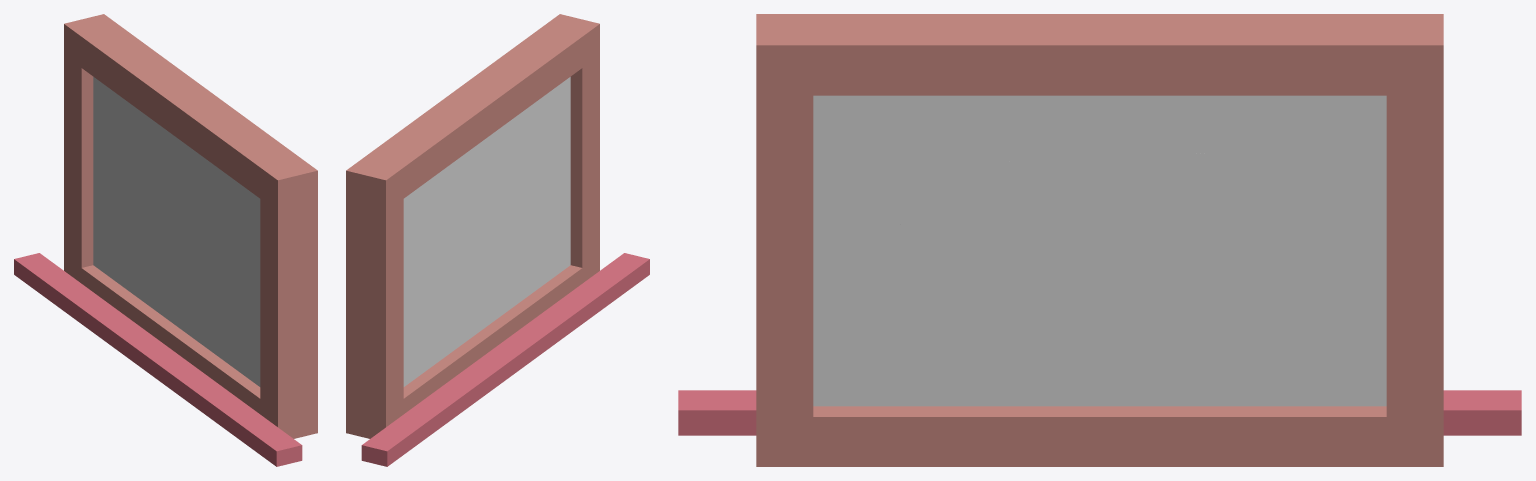
Rendered from Window.fbx.
3 renders of one model, left to right at view 1: azimuth 30°, elevation 25°; view 2: azimuth 150°, elevation 25°; view 3: azimuth 270°, elevation 25°, orthographic. The views are drawn at different scales.
Parts seen in each view (by area): view 1: WindowFrame, Window.006, Window.007, Window.011, Window.009, Window.010, Window.004, Window.003, Window.008, Window.012, Window.005, Window.001 (+1 smaller); view 2: WindowFrame, Window.006, Window.007, Window.011, Window.010, Window.012, Window.009, Window.001, Window.004, Window.003, Window.002, Window.008 (+1 smaller); view 3: WindowFrame, Window.006, Window.007, Window.011, Window.009, Window.010, Window.012, Window.001, Window.004, Window.003, Window.005, Window.008 (+1 smaller).
Boxes of the visible parts, x1,y1,x2,y2 form: WindowFrame: (14, 14, 317, 466); Window.006: (166, 169, 254, 301); Window.007: (118, 133, 184, 288); Window.011: (167, 289, 254, 363); Window.009: (93, 191, 135, 295); Window.010: (118, 191, 180, 328); Window.004: (122, 106, 184, 168); Window.003: (183, 142, 234, 225); Window.008: (93, 131, 121, 198); Window.012: (229, 302, 260, 386); Window.005: (93, 77, 132, 133); Window.001: (229, 176, 260, 250); WindowFrame: (346, 14, 649, 466); Window.006: (465, 149, 553, 312); Window.007: (417, 166, 483, 312); Window.011: (465, 196, 553, 331); Window.010: (417, 285, 478, 363); Window.012: (528, 195, 570, 295); Window.009: (403, 285, 434, 386); Window.001: (528, 77, 570, 148); Window.004: (420, 142, 483, 222); Window.003: (482, 108, 533, 165); Window.002: (534, 133, 570, 199); Window.008: (403, 223, 420, 308); WindowFrame: (678, 14, 1521, 466); Window.006: (867, 144, 1150, 359); Window.007: (1092, 144, 1305, 359); Window.011: (867, 275, 1150, 406); Window.009: (1249, 258, 1386, 406); Window.010: (1107, 258, 1305, 406); Window.012: (813, 275, 950, 406); Window.001: (813, 95, 951, 193); Window.004: (1092, 95, 1295, 161); Window.003: (931, 95, 1099, 176); Window.005: (1254, 95, 1386, 191); Window.008: (1296, 161, 1386, 299).
Size of the model in its own units: 14.03 by 53.61 by 97.24.
